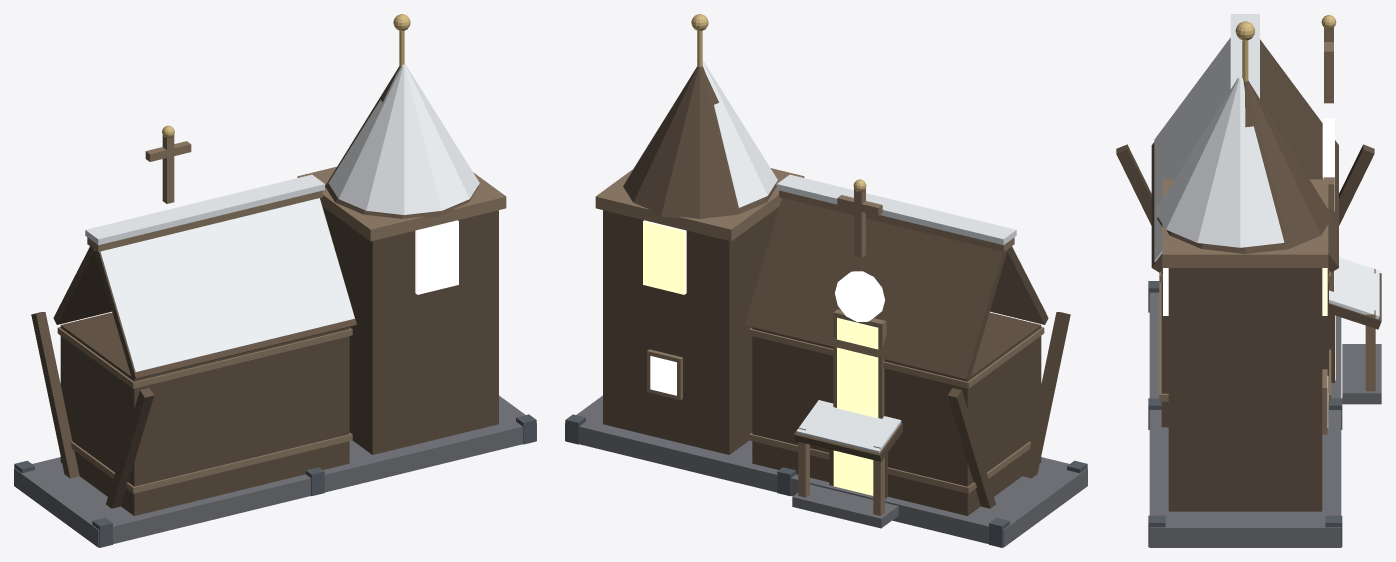
The model's file is house_of_prayer.glb.
The picture shows the model from 3 angles, left to right: view 1: azimuth 30°, elevation 25°; view 2: azimuth 150°, elevation 25°; view 3: azimuth 270°, elevation 25°; orthographic projection. The views are drawn at different scales.
Visible parts, largest first — view 1: house_of_prayer_Building; view 2: house_of_prayer_Building; view 3: house_of_prayer_Building.
Boxes of the visible parts, bbox=[...] form: house_of_prayer_Building: bbox=[14, 14, 536, 547]; house_of_prayer_Building: bbox=[565, 14, 1087, 547]; house_of_prayer_Building: bbox=[1116, 14, 1381, 547].
Bounding box in the file's own units: 4.68 × 4.26 × 2.16.
